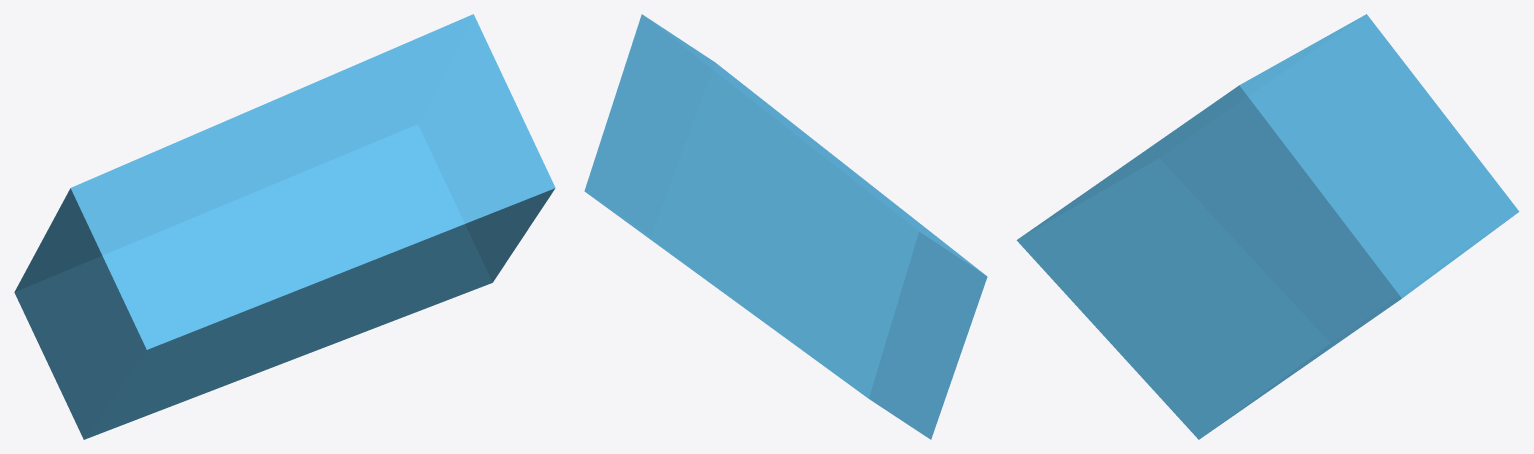
File: Event_420094457_HErechit_66.fbx
3 renders of one model, left to right at view 1: azimuth 30°, elevation 25°; view 2: azimuth 150°, elevation 25°; view 3: azimuth 270°, elevation 25°, orthographic. The views are drawn at different scales.
Visible parts, largest first — view 1: Model; view 2: Model; view 3: Model.
Boxes of the visible parts, x1,y1,x2,y2 form: Model: (14, 14, 555, 439); Model: (584, 14, 987, 439); Model: (1016, 14, 1519, 439).
Size of the model in its own units: 0.831 by 0.8011 by 0.7391.
